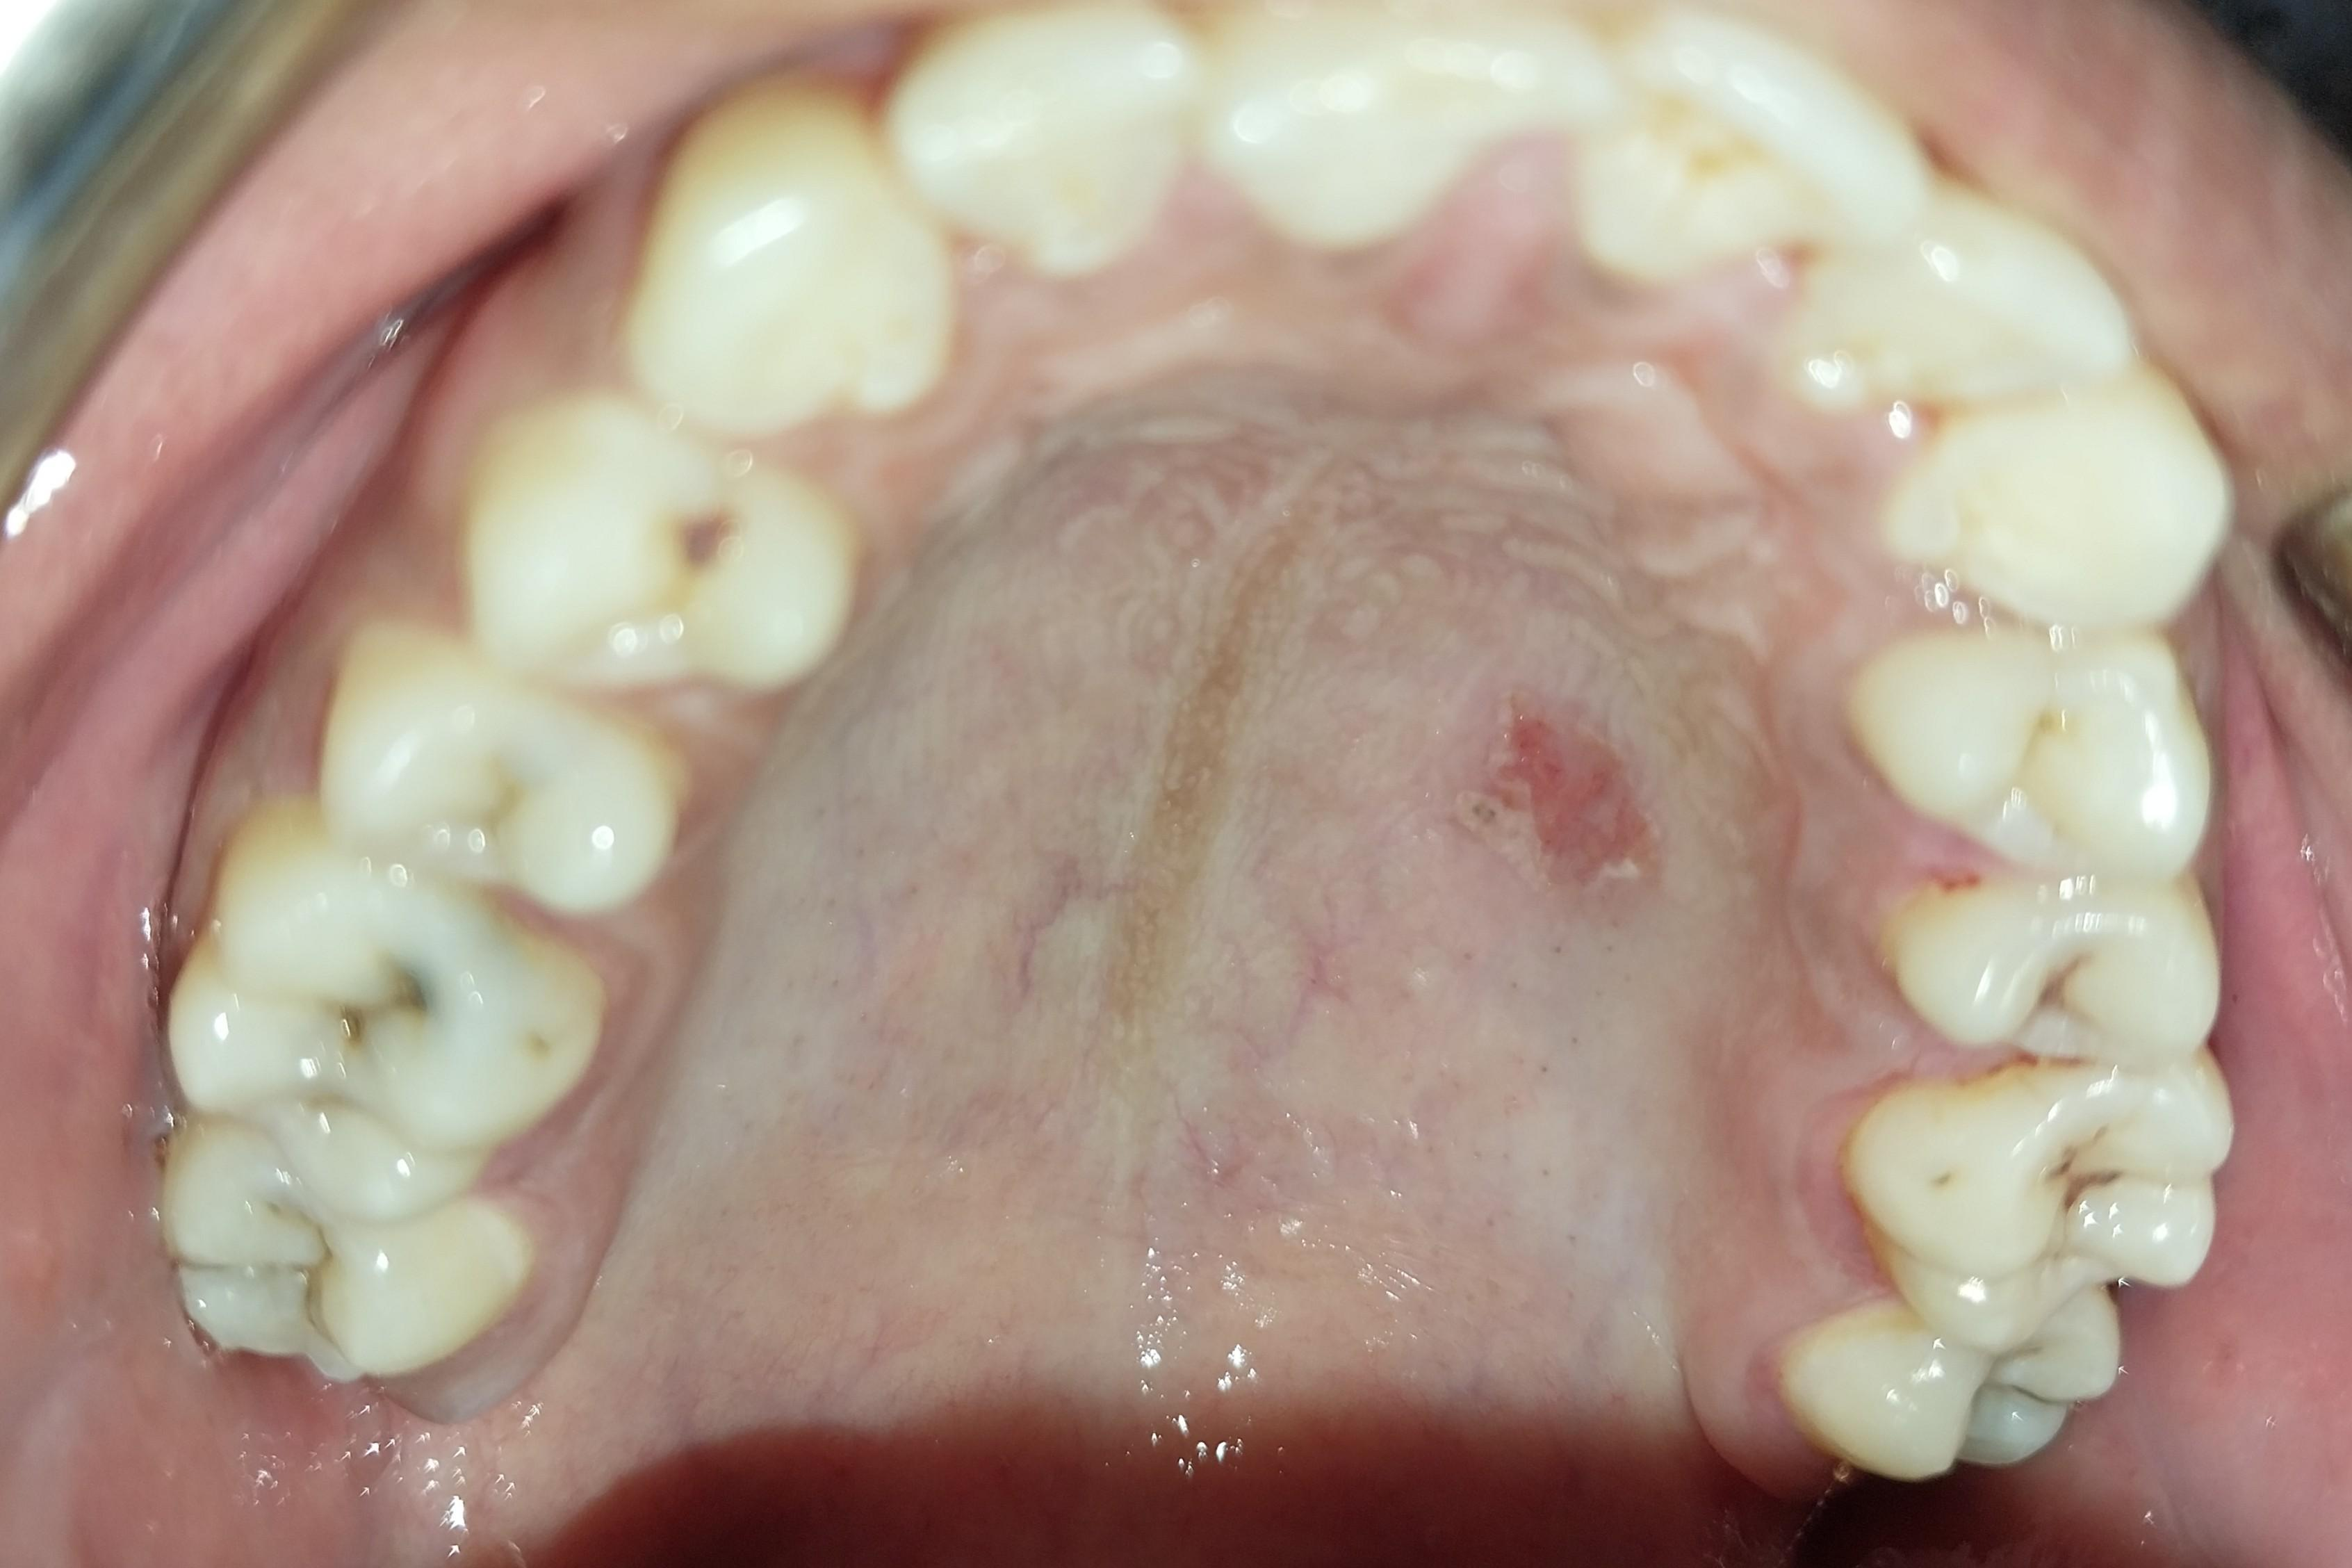D: (179, 802, 582, 1219), (475, 396, 833, 712), (1881, 1043, 2232, 1353), (147, 1120, 529, 1388), (1903, 869, 2229, 1067)
